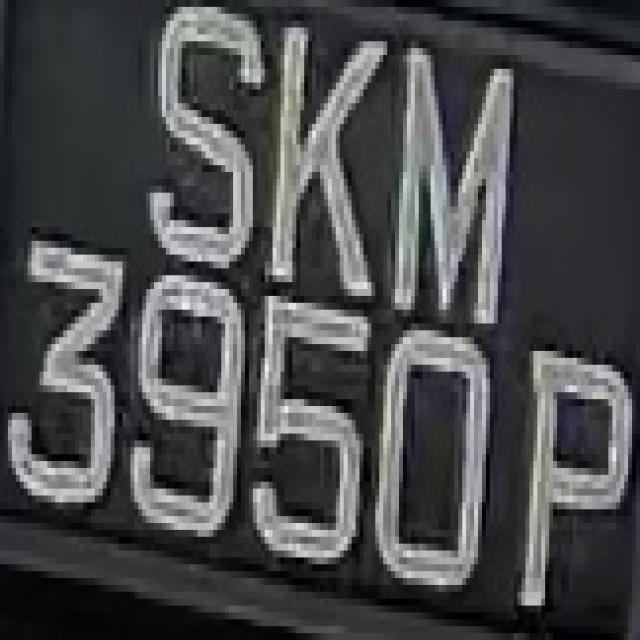0: (375, 296, 494, 612)
3: (16, 206, 122, 537)
5: (249, 262, 367, 598)
9: (122, 241, 245, 564)
K: (273, 28, 383, 310)
M: (387, 28, 518, 344)
P: (513, 309, 640, 605)
S: (138, 7, 257, 282)
